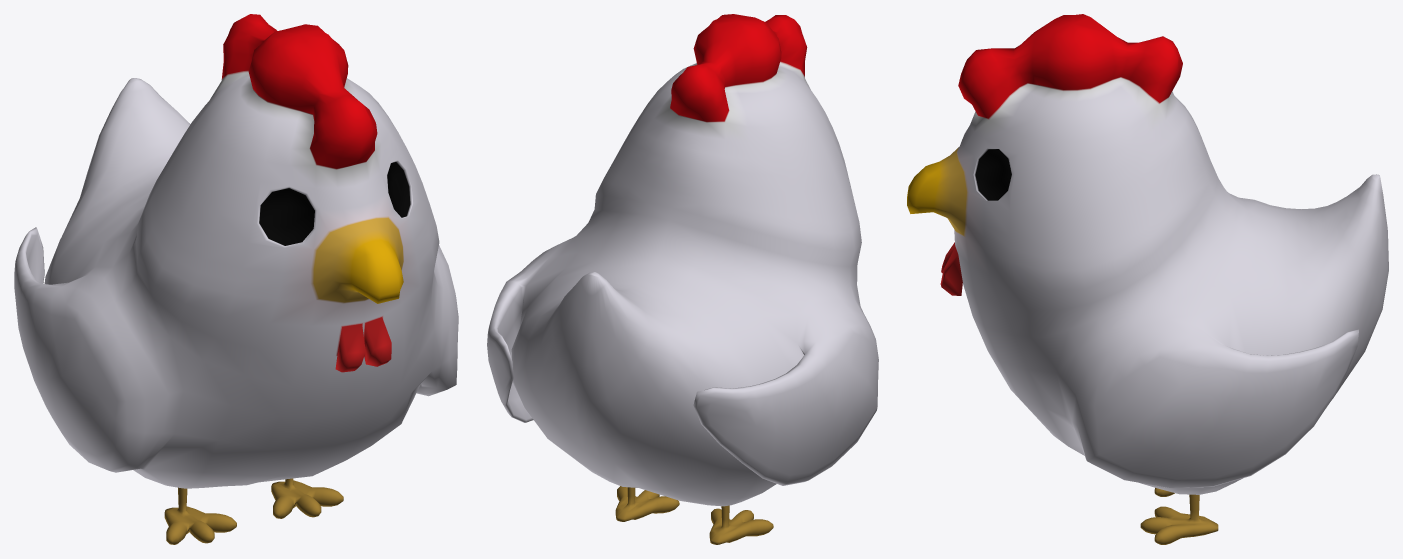
File: CHIKEN.fbx
The picture shows the model from 3 angles, left to right: view 1: azimuth 30°, elevation 25°; view 2: azimuth 150°, elevation 25°; view 3: azimuth 270°, elevation 25°; orthographic projection. The views are drawn at different scales.
Visible parts, largest first — view 1: Hen_V1; view 2: Hen_V1; view 3: Hen_V1.
Boxes of the visible parts, x1,y1,x2,y2 form: Hen_V1: (14,14,458,544); Hen_V1: (487,14,878,544); Hen_V1: (907,14,1388,544).
Bounding box in the file's own units: 147 × 193 × 174.
